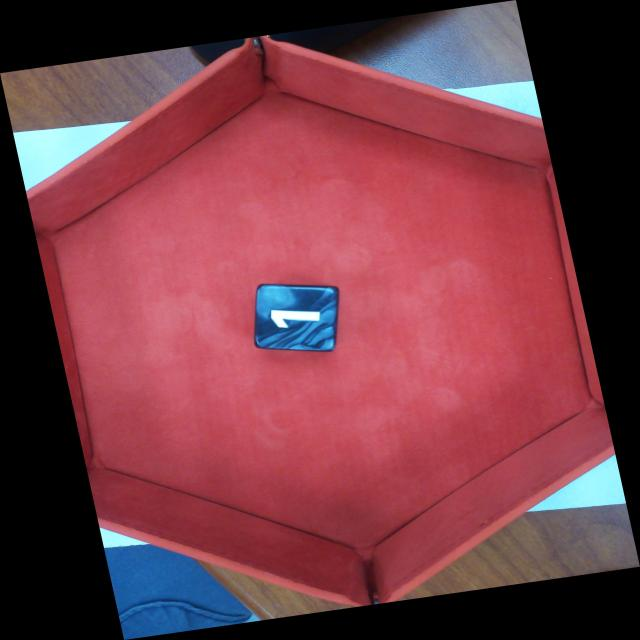dice: (260, 286, 336, 348)
